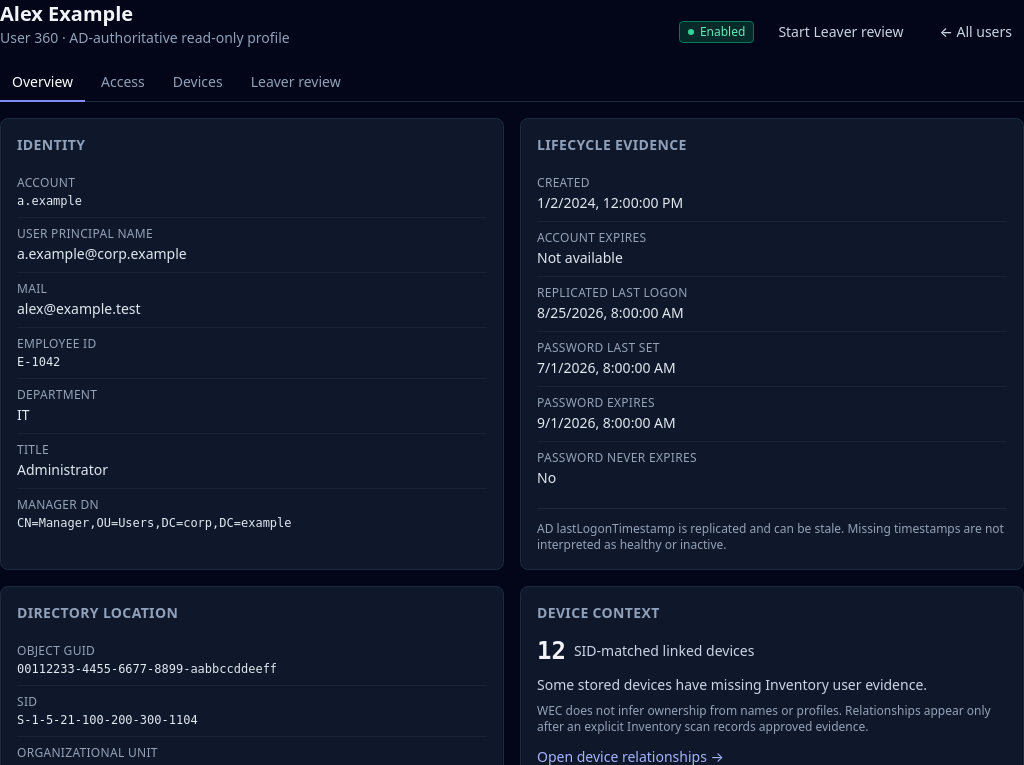
Test: UserDetailPage › exports only the current session checklist and reports the selected path
Click the button "Start Leaver review" at [841, 32], box [766,16,916,48]
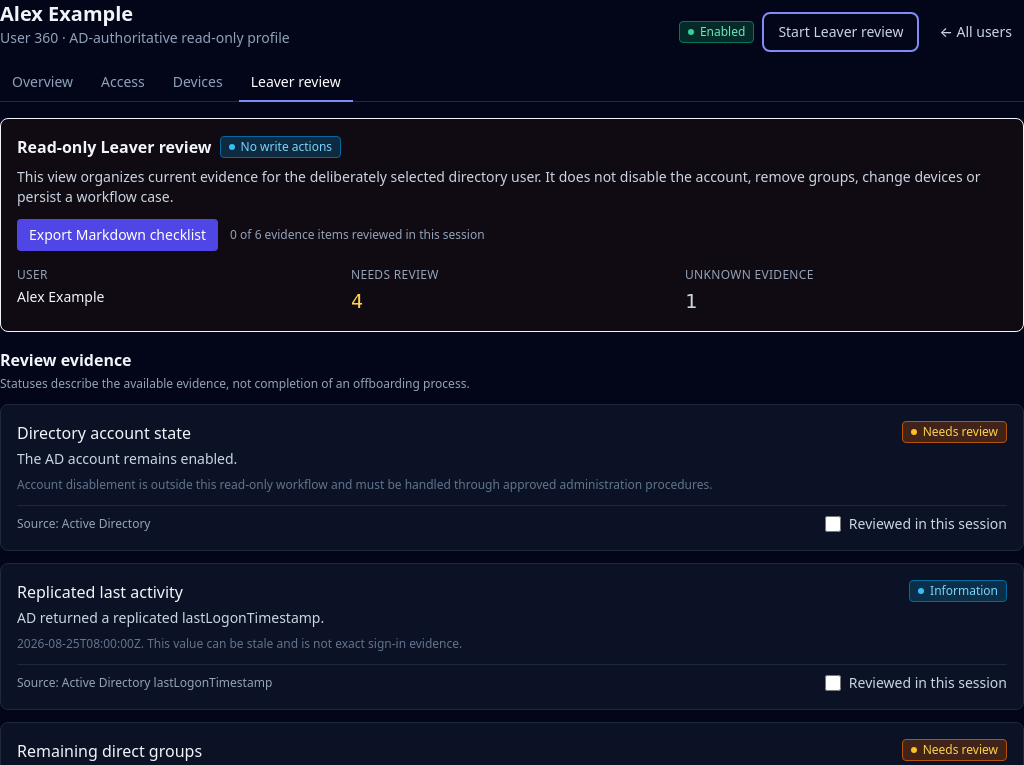
Click the 1st checkbox labelled "Reviewed in this session" at [833, 524], box [825,516,841,532]
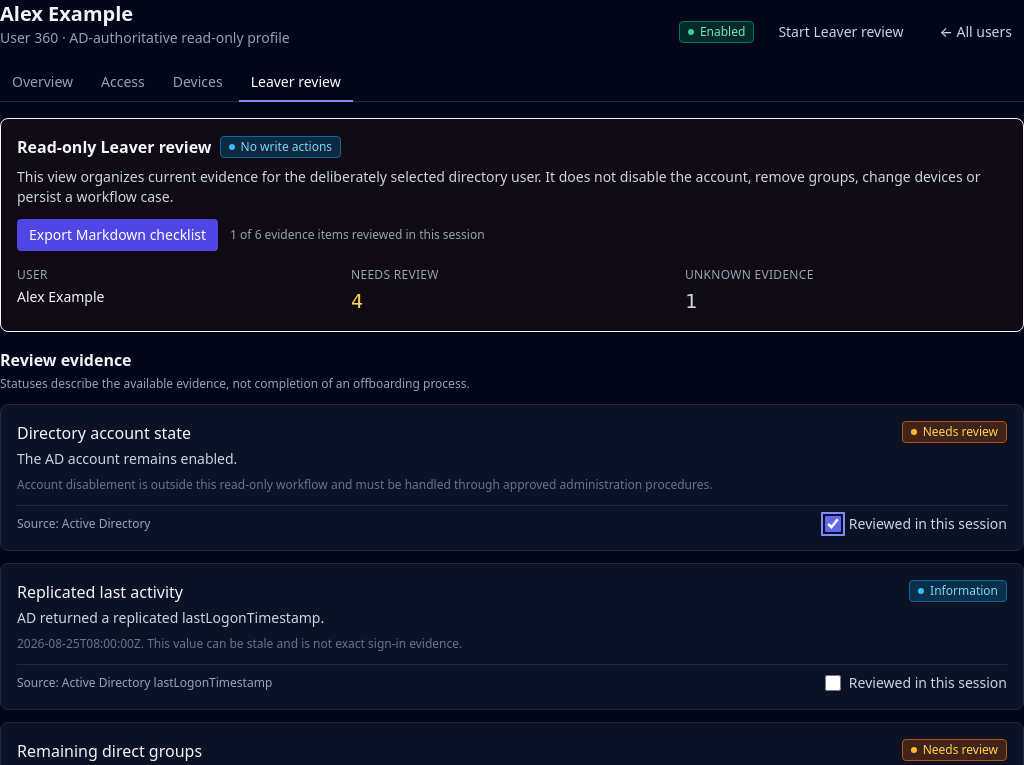
expect the text "1 of 6 evidence items reviewed in this session" is shown: met, box [230,227,485,243]
Click the button "Export Markdown checklist" at [118, 235], box [17,219,218,251]
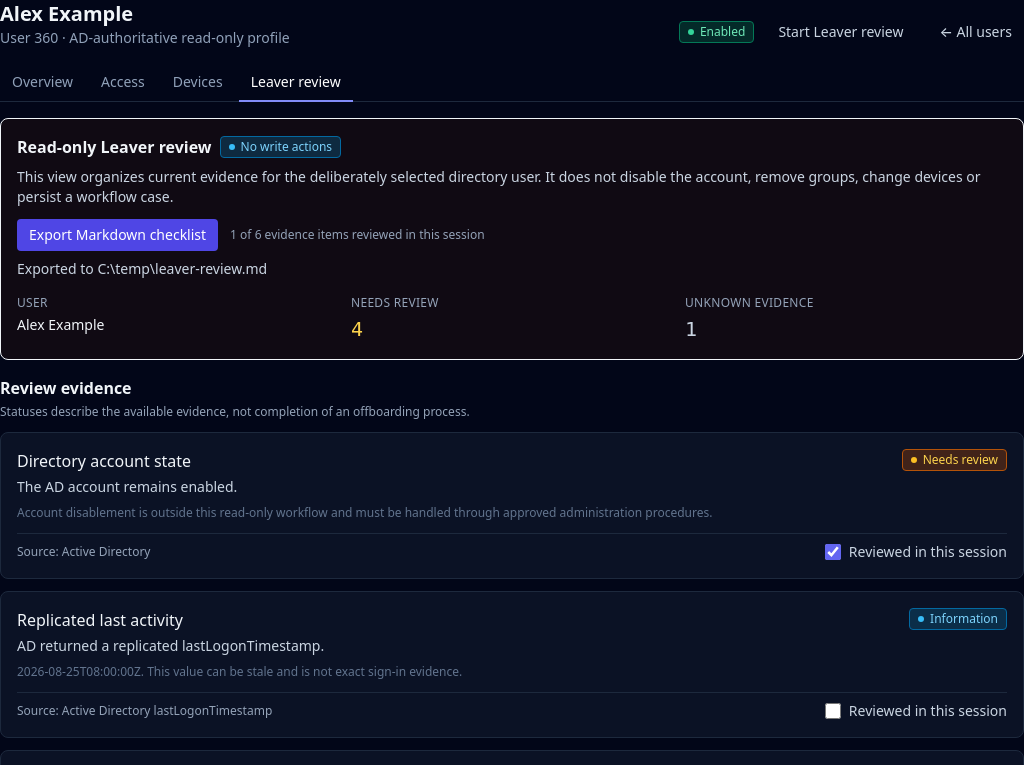
expect the text "Exported to C:\\temp\\leaver-review.md" is shown: met, box [17,259,267,278]
